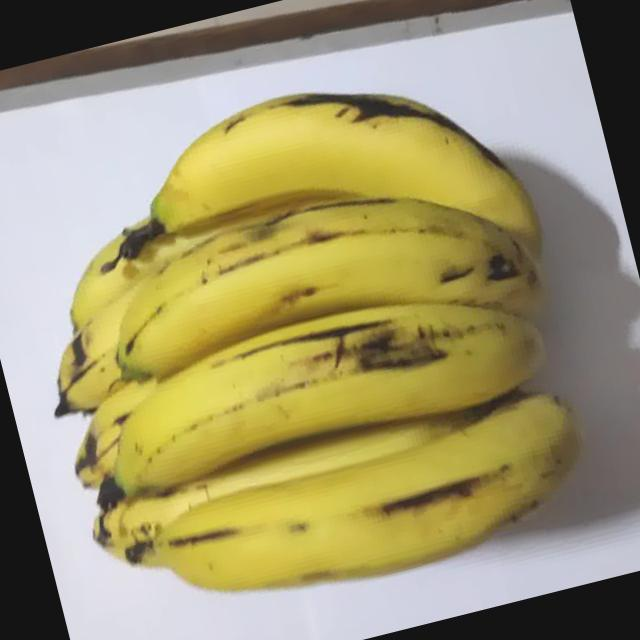banana_pacche: (0, 6, 629, 640)
